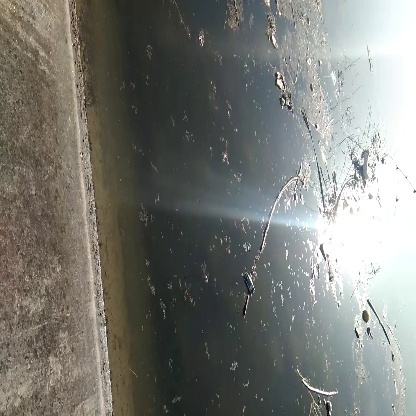branch: (257, 175, 305, 255)
